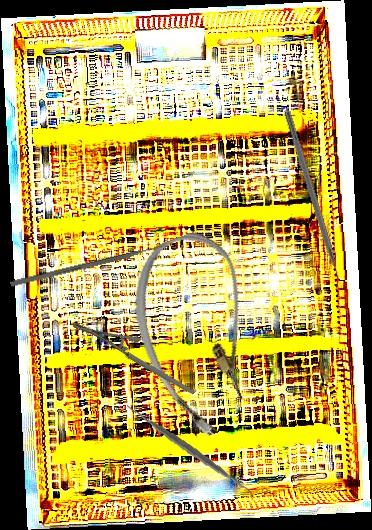Cannula: (112, 222, 287, 447)
Hook Surgical: (282, 109, 348, 298)
Needle Holder: (72, 293, 196, 426)
Pusher: (9, 240, 175, 288)
Spatula Surgical: (126, 389, 253, 510)
